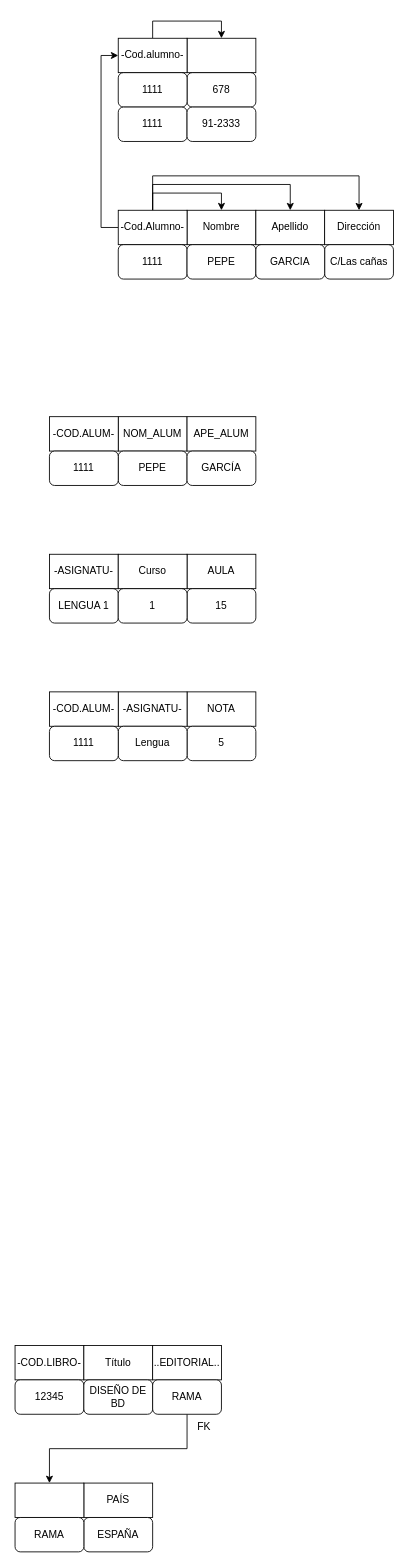
The diagram is 409 pixels wide and 1567 high, and some of its shapes have lost their labels. The box of each missing label's shape, as (x1, y1, x2, y2) in pixels:
-EDITORIAL-: (14, 1482, 84, 1517)
-Tlfono-: (186, 37, 256, 73)
